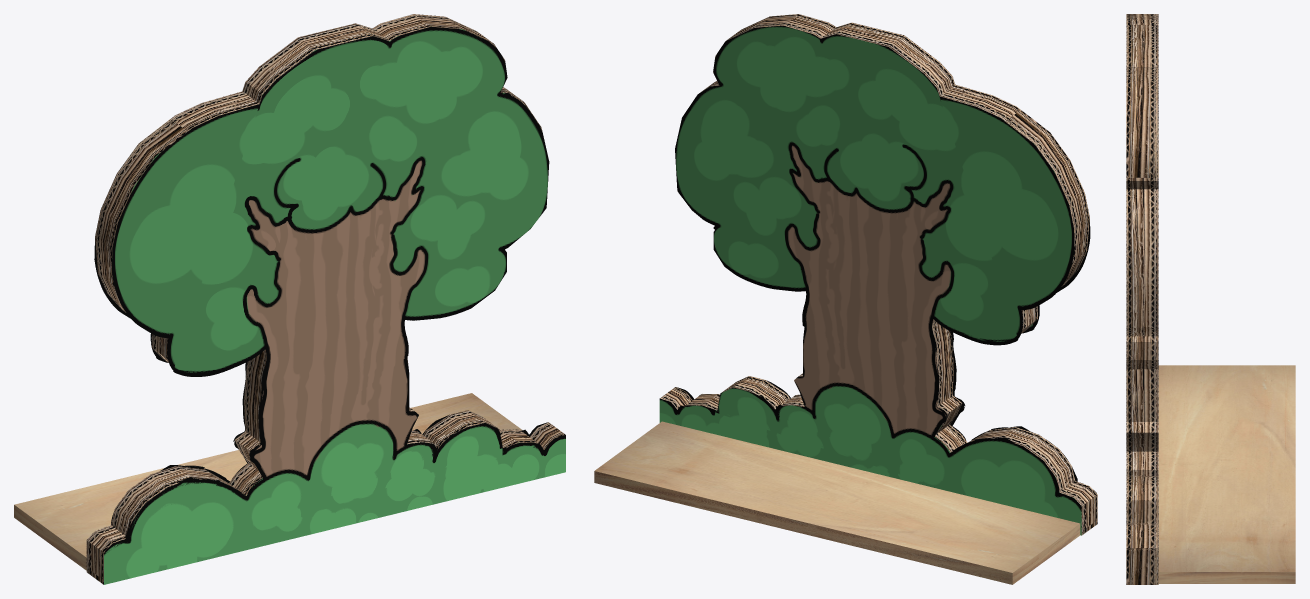
File: Hardback_3_Model.fbx
3 renders of one model, left to right at view 1: azimuth 30°, elevation 25°; view 2: azimuth 150°, elevation 25°; view 3: azimuth 270°, elevation 25°, orthographic. The views are drawn at different scales.
Visible parts, largest first — view 1: polySurface8, polySurface7, pCube15; view 2: polySurface8, pCube15, polySurface7; view 3: pCube15, polySurface7.
Boxes of the visible parts, box(x1,y1,x2,y2) form: polySurface8: box(94, 26, 565, 584); polySurface7: box(86, 14, 565, 584); pCube15: box(14, 393, 522, 570); polySurface8: box(659, 25, 1096, 535); pCube15: box(594, 421, 1080, 584); polySurface7: box(660, 14, 1097, 535); pCube15: box(1158, 365, 1295, 583); polySurface7: box(1126, 14, 1158, 584).
Bounding box in the file's own units: 1.97 × 1.97 × 0.6741.
Materials: 3 (3 with a texture image).
